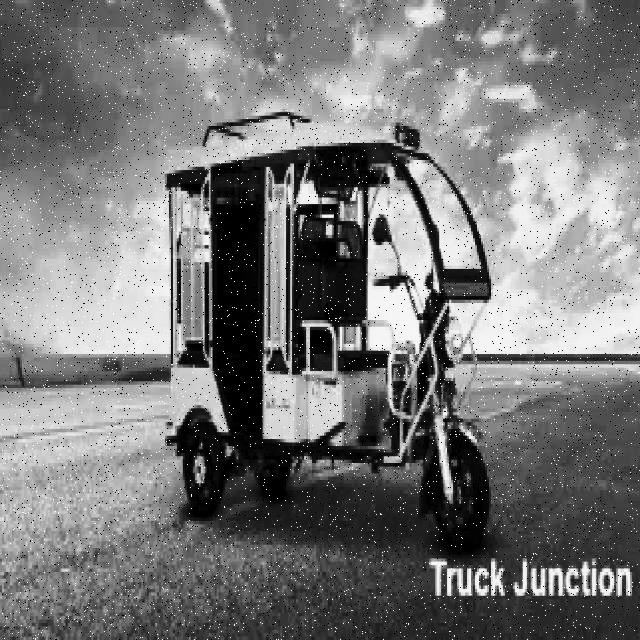Toto: (165, 114, 492, 553)
